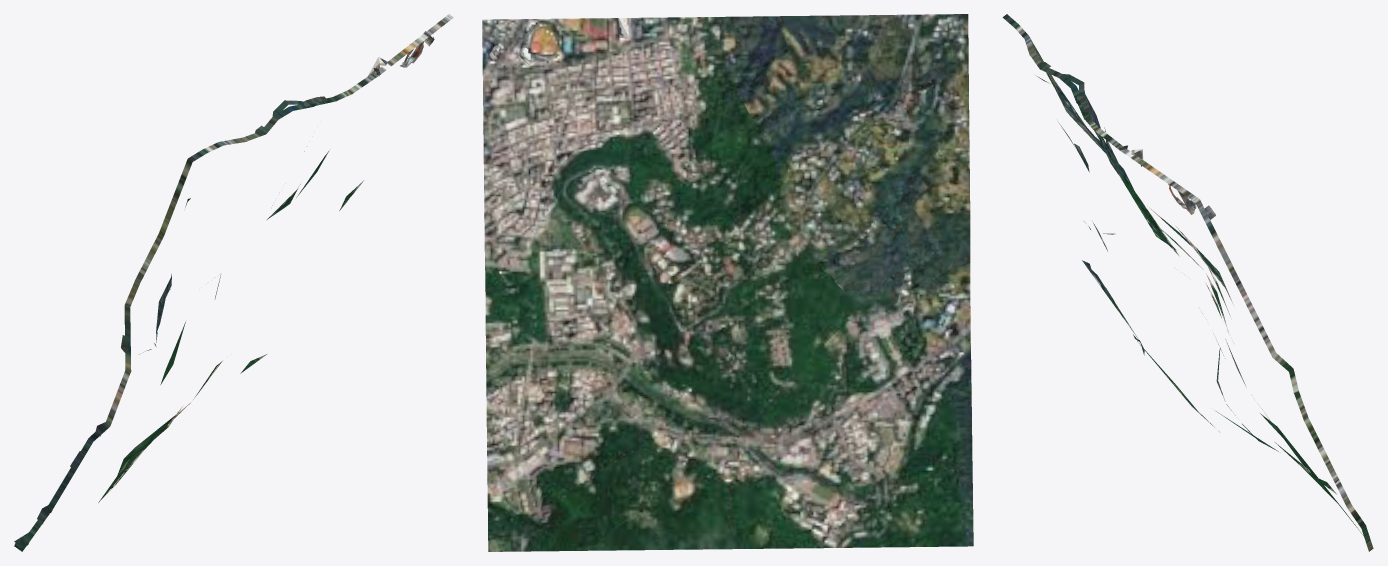
The picture shows the model from 3 angles, left to right: view 1: azimuth 30°, elevation 25°; view 2: azimuth 150°, elevation 25°; view 3: azimuth 270°, elevation 25°; orthographic projection. The views are drawn at different scales.
Size of the model in its own units: 2510 by 2319 by 1880.
Materials: 1 (1 with a texture image).
